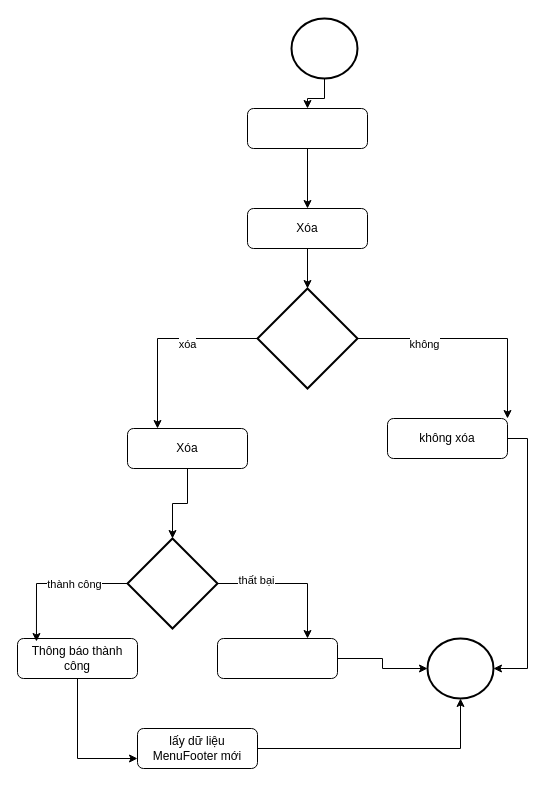
Some shapes in this 553 by 786 pixel diagram are drawn without their labels. The shapes that lost their labels are listed below. From the top down, each one's centre as x and y in pixels, then its label:
pixel 307 128: Hiển thị danh sách MenuFooter
pixel 307 338: Xác nhận
pixel 277 658: Thông báo lỗi
